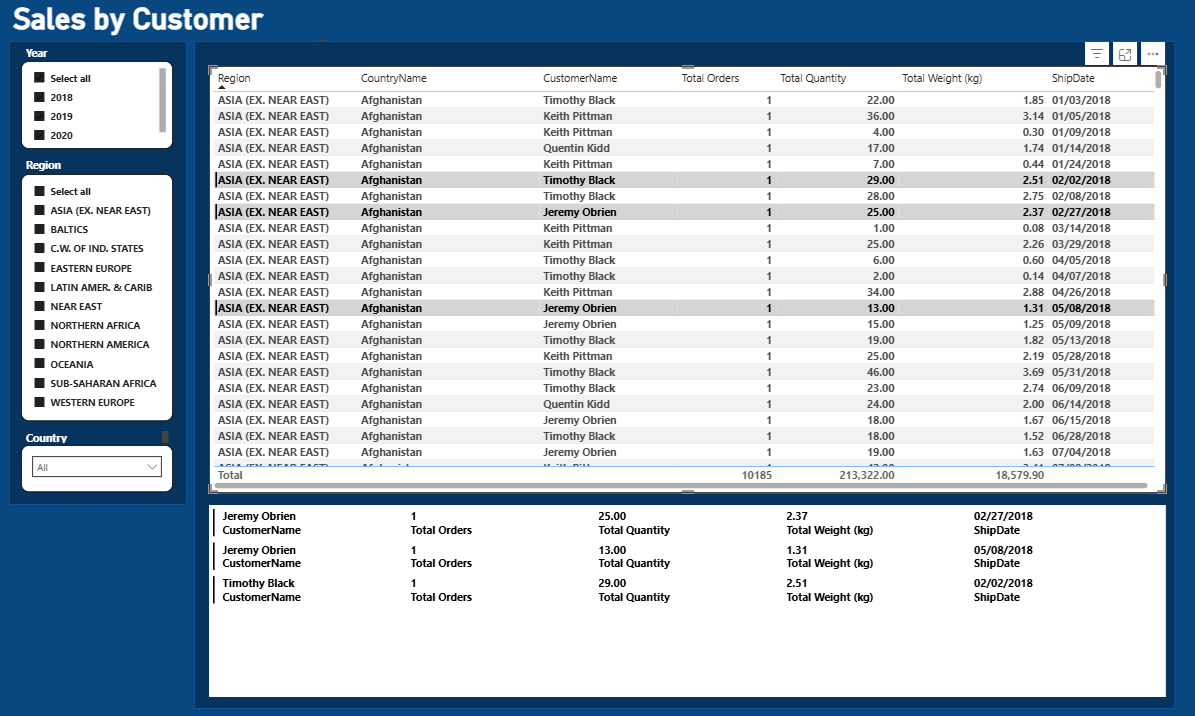

Layout of this report page (visuals, bound fields, positions):
{"tool":"powerbi","page":{"name":"SalesByCustomer","canvas":[1500,900],"ordinal":1},"visuals":[{"type":"shape","box":[245,52.5,1226.2,835],"z":0},{"type":"shape","box":[13.8,52.5,222.5,580],"z":1000},{"type":"textbox","title":"Sales by Customer","box":[13.6,2.1,399.7,56.3],"z":2000},{"type":"slicer","fields":{"Values":["gold_dim_country.CountryName"]},"box":[29.2,557.3,189.9,59.5],"z":3000},{"type":"slicer","fields":{"Values":["gold_dim_country.Region"]},"box":[28.2,219.1,189.9,308.9],"z":4000},{"type":"slicer","fields":{"Values":["gold_dim_date.Year"]},"box":[28.2,77.2,189.9,109.6],"z":5000},{"type":"textbox","box":[30.3,194,187.8,30.3],"z":6000},{"type":"textbox","box":[30.3,535.4,187.8,25],"z":7000},{"type":"textbox","box":[30.3,54.3,198.3,30.3],"z":8000},{"type":"tableEx","fields":{"Values":["gold_dim_country.Region","gold_dim_country.CountryName","gold_dim_customer.CustomerName","gold_fact_sales.Total Orders","gold_fact_sales.Total Quantity","gold_fact_sales.Total Weight (kg)","gold_fact_sales.ShipDate"]},"box":[263.8,83.8,1196.2,533.8],"z":9000},{"type":"multiRowCard","fields":{"Values":["gold_dim_customer.CustomerName","gold_fact_sales.Total Orders","gold_fact_sales.Total Quantity","gold_fact_sales.Total Weight (kg)","gold_fact_sales.ShipDate"]},"box":[263.8,632.5,1196.2,240],"z":10000}]}

Visuals, with their boxes in screenshot pixels (x1, y1, x2, y2), scaled from the page's 1500x900 canvas onto the 1195x716 screenshot:
shape: l=195, t=42, r=1172, b=706
shape: l=11, t=42, r=188, b=503
"Sales by Customer" textbox: l=11, t=2, r=329, b=46
slicer - gold_dim_country.CountryName: l=23, t=443, r=175, b=491
slicer - gold_dim_country.Region: l=22, t=174, r=174, b=420
slicer - gold_dim_date.Year: l=22, t=61, r=174, b=149
textbox: l=24, t=154, r=174, b=178
textbox: l=24, t=426, r=174, b=446
textbox: l=24, t=43, r=182, b=67
tableEx - gold_dim_country.Region x gold_dim_country.CountryName: l=210, t=67, r=1163, b=491
multiRowCard - gold_dim_customer.CustomerName x gold_fact_sales.Total Orders: l=210, t=503, r=1163, b=694
